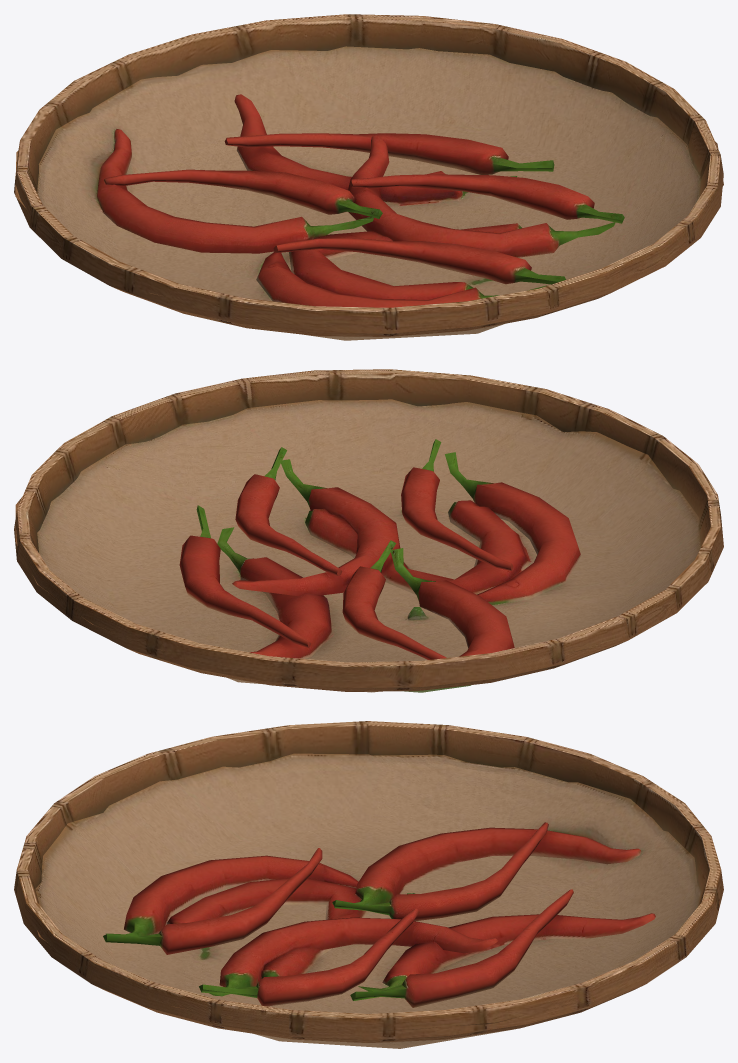
File: chili_plate_M.fbx
3 views of the same model, one above another, from view 1: azimuth 30°, elevation 25°; view 2: azimuth 150°, elevation 25°; view 3: azimuth 270°, elevation 25° (orthographic).
Visible parts, largest first — view 1: Object003; view 2: Object003; view 3: Object003.
Boxes of the visible parts, x1=… form: Object003: x1=14, y1=14, x2=723, y2=340; Object003: x1=14, y1=369, x2=723, y2=692; Object003: x1=14, y1=721, x2=723, y2=1048.
Bounding box in the file's own units: 0.998 × 0.1035 × 0.998.
